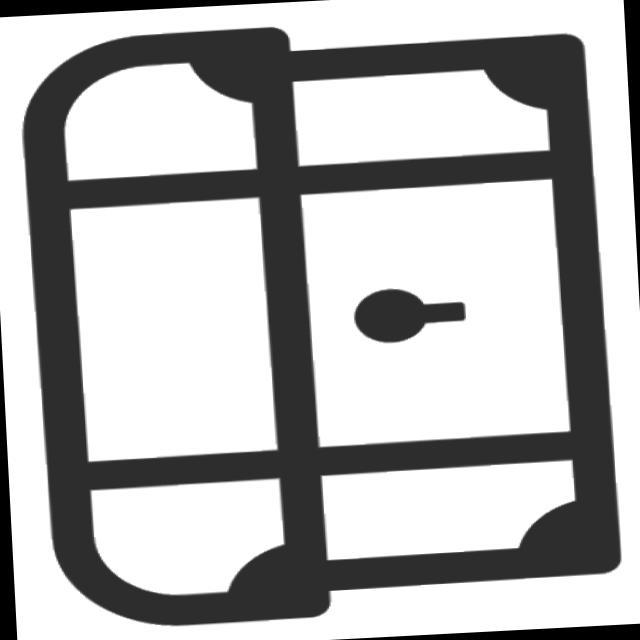treasure_box: (8, 1, 628, 636)
